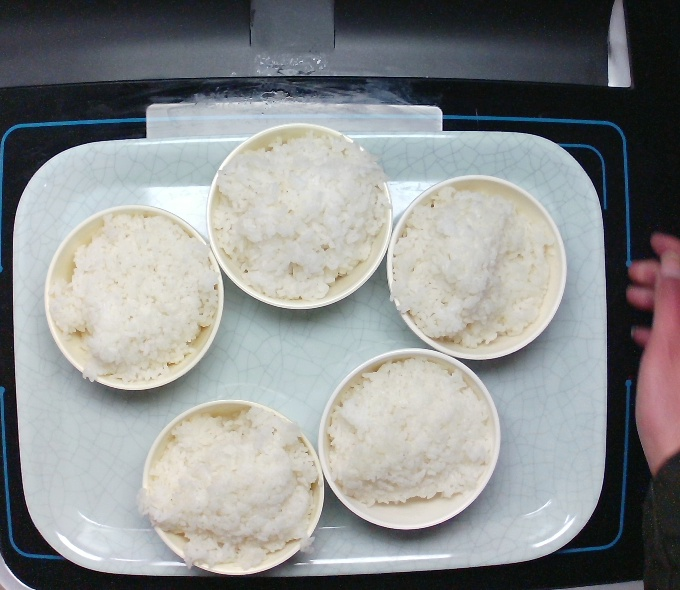wcq-MiFan: (205, 123, 390, 304), (146, 404, 331, 575), (387, 187, 571, 355), (52, 210, 224, 382), (315, 355, 502, 510)
